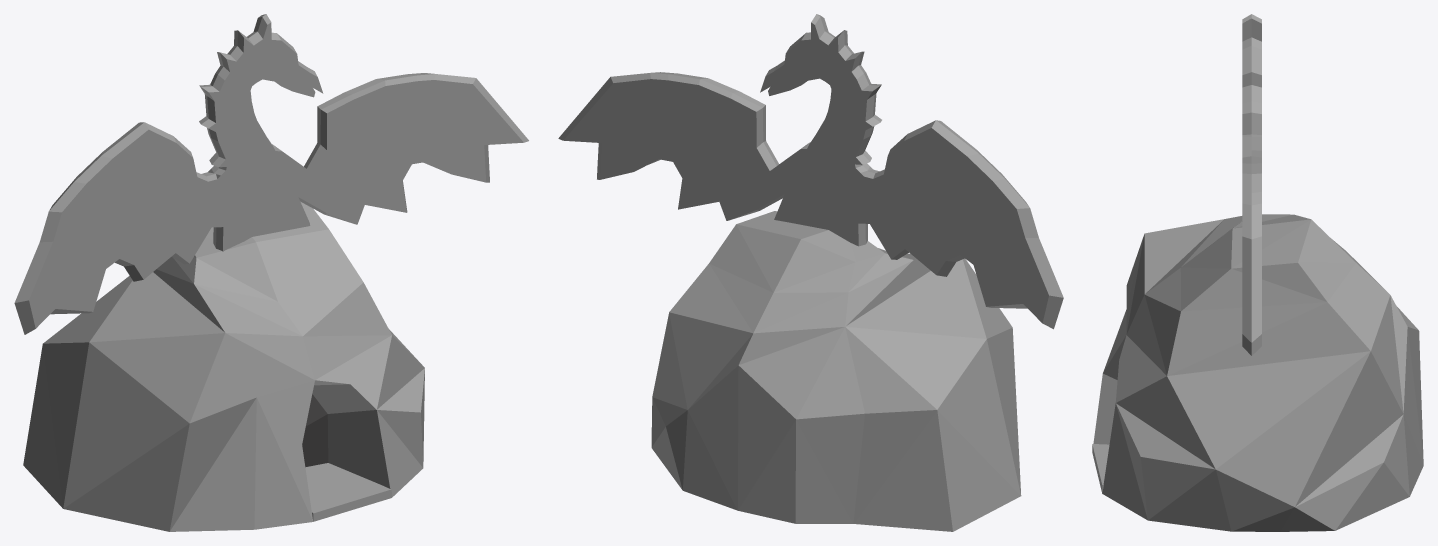
Rendered from Isl_4_Cave.fbx.
3 renders of one model, left to right at view 1: azimuth 30°, elevation 25°; view 2: azimuth 150°, elevation 25°; view 3: azimuth 270°, elevation 25°, orthographic. The views are drawn at different scales.
Parts seen in each view (by area): view 1: Isl_4_Cave; view 2: Isl_4_Cave; view 3: Isl_4_Cave.
Boxes of the visible parts, <box> form: Isl_4_Cave: <box>14,14,528,531</box>; Isl_4_Cave: <box>558,14,1063,531</box>; Isl_4_Cave: <box>1092,14,1423,531</box>.
Bounding box in the file's own units: 1086 × 596 × 892.
Materials: 1 (1 with a texture image).
